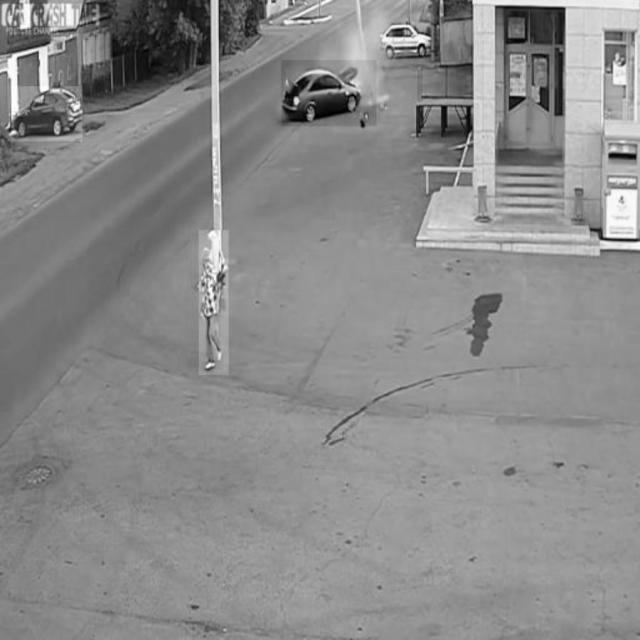accident: (281, 60, 375, 126)
person: (199, 230, 229, 374)
vehicle: (12, 87, 83, 142), (376, 19, 434, 60)
